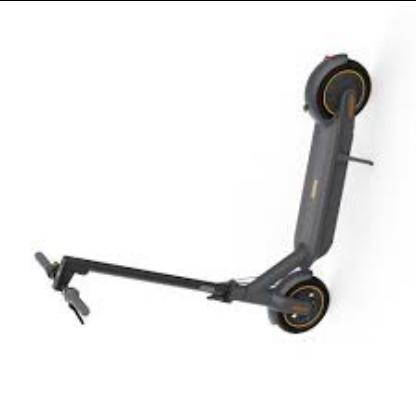bike: (33, 53, 378, 335)
